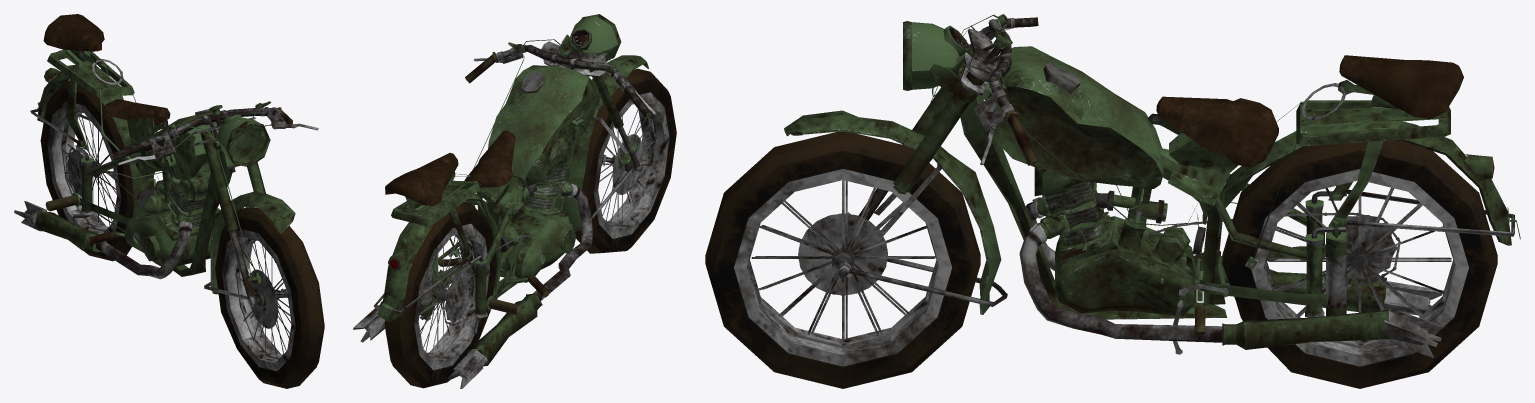
The model's file is Bg_bike_Broken_01.fbx.
3 views of the same model, side by side, from view 1: azimuth 30°, elevation 25°; view 2: azimuth 150°, elevation 25°; view 3: azimuth 270°, elevation 25° (orthographic). The views are drawn at different scales.
Parts seen in each view (by area): view 1: Bg_bike_Broken_01; view 2: Bg_bike_Broken_01; view 3: Bg_bike_Broken_01.
Part boxes in pixels (x1,y1,x2,y2): Bg_bike_Broken_01: (14, 14, 324, 388); Bg_bike_Broken_01: (353, 14, 676, 388); Bg_bike_Broken_01: (705, 14, 1520, 388).
Size of the model in its own units: 106 by 131 by 267.
